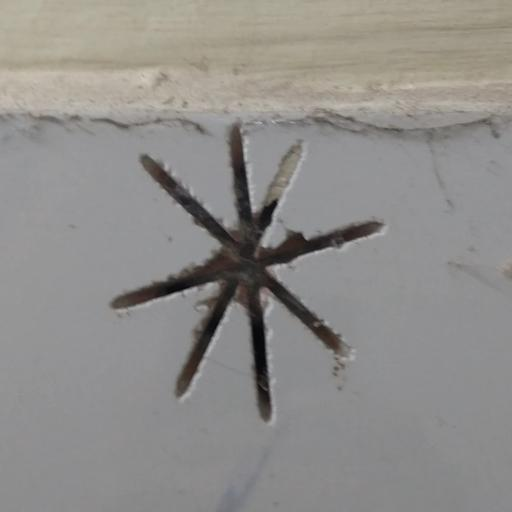spalling: (87, 119, 418, 433)
